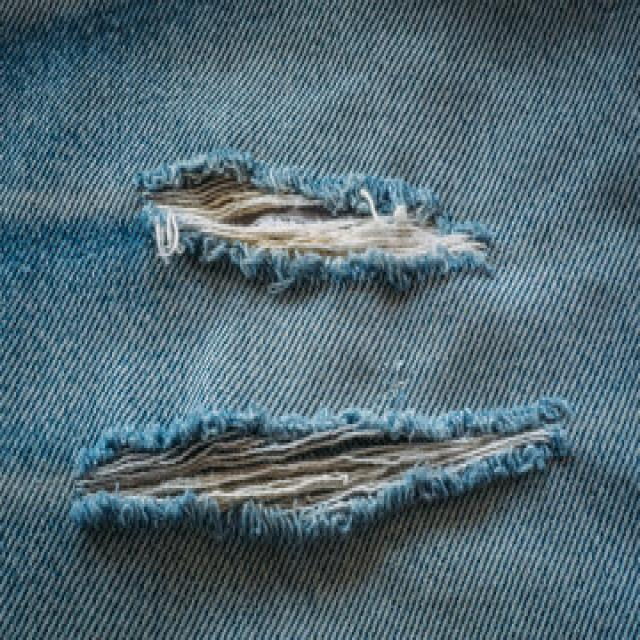Hole: (69, 398, 574, 542), (136, 151, 494, 290)
